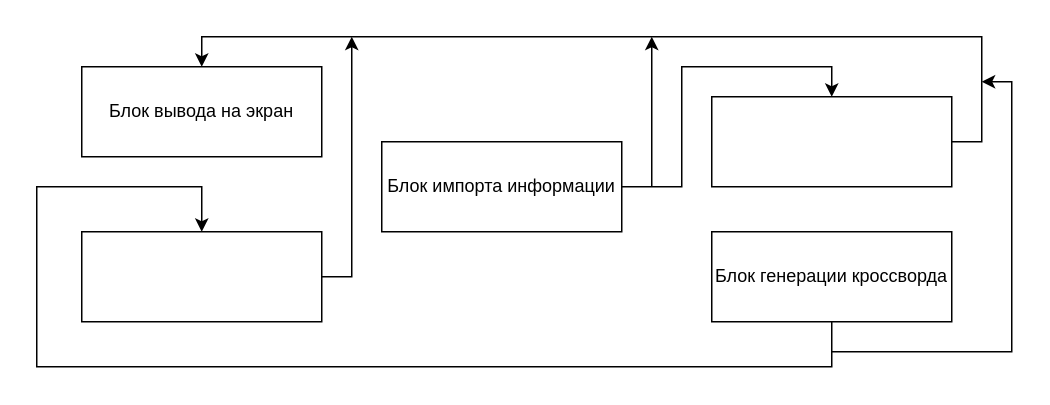
Some shapes in this 1050 by 405 pixel diagram are drawn without their labels. Here are the shapes that lost their labels. From the top down, the centre of each, then its label:
At pixel 831 141: "Блок настройки поля".
At pixel 201 276: "Блок экспорта информации".
